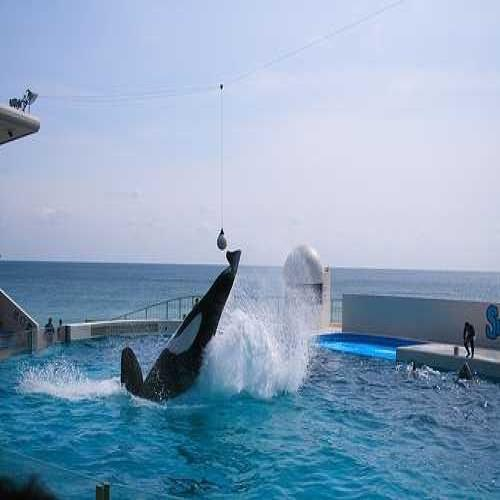killer_whale-endangered: (113, 245, 254, 422)
